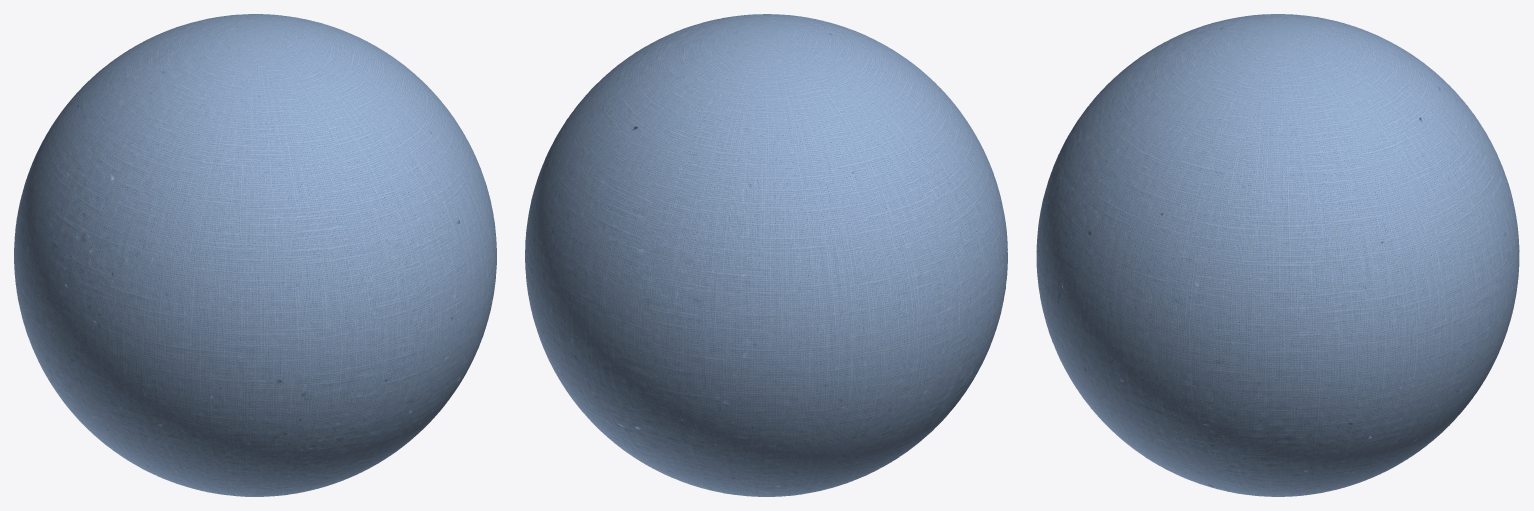
The model's file is rough_linen_1k.gltf.
3 renders of one model, left to right at view 1: azimuth 30°, elevation 25°; view 2: azimuth 150°, elevation 25°; view 3: azimuth 270°, elevation 25°, orthographic.
Visible parts, largest first — view 1: sphere_gltf; view 2: sphere_gltf; view 3: sphere_gltf.
Boxes of the visible parts, bbox=[...] form: sphere_gltf: bbox=[14, 14, 496, 496]; sphere_gltf: bbox=[525, 14, 1007, 496]; sphere_gltf: bbox=[1036, 14, 1519, 496].
Size of the model in its own units: 0.2713 by 0.2713 by 0.2714.
1 material, 1 textured.
